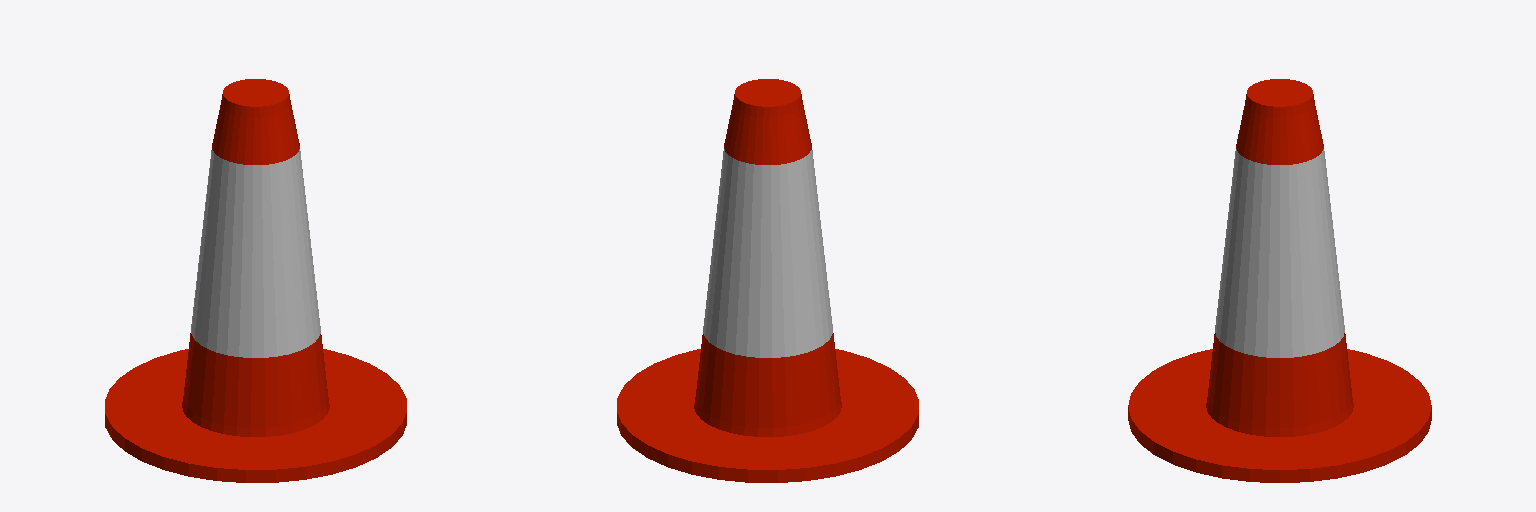
The model's file is cono.obj.
The picture shows the model from 3 angles: view 1: azimuth 30°, elevation 25°; view 2: azimuth 150°, elevation 25°; view 3: azimuth 270°, elevation 25°; orthographic projection.
Parts seen in each view (by area): view 1: Cylinder.000_Cylinder.009; view 2: Cylinder.000_Cylinder.009; view 3: Cylinder.000_Cylinder.009.
Boxes of the visible parts, <box> form: Cylinder.000_Cylinder.009: <box>105,79,406,482</box>; Cylinder.000_Cylinder.009: <box>617,79,918,482</box>; Cylinder.000_Cylinder.009: <box>1128,79,1431,482</box>.
Size of the model in its own units: 2.49 by 2.96 by 2.49.